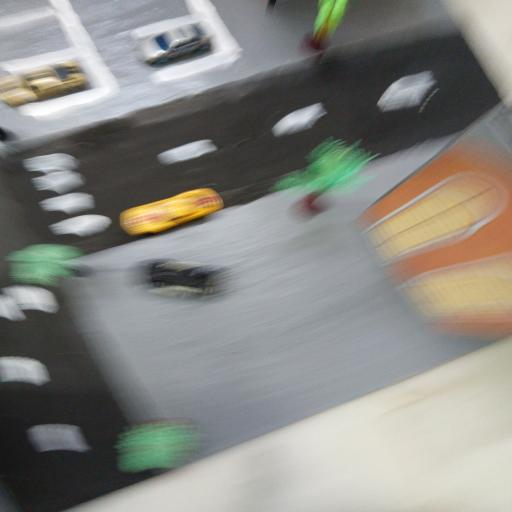car crash: (135, 256, 232, 302)
